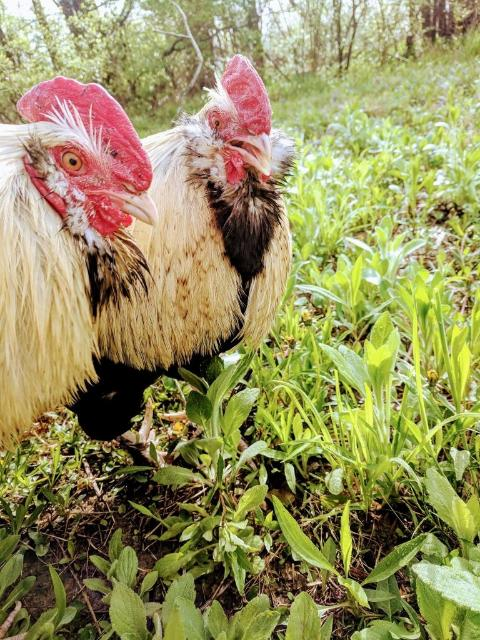Chicken: (86, 52, 295, 370), (0, 78, 156, 451)
